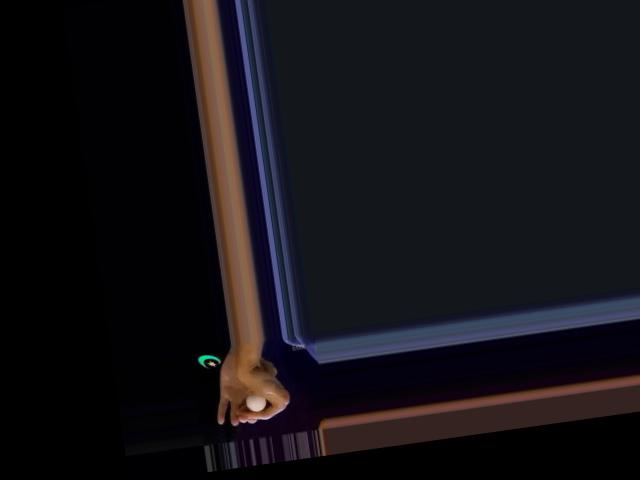egg: (245, 394, 268, 413)
